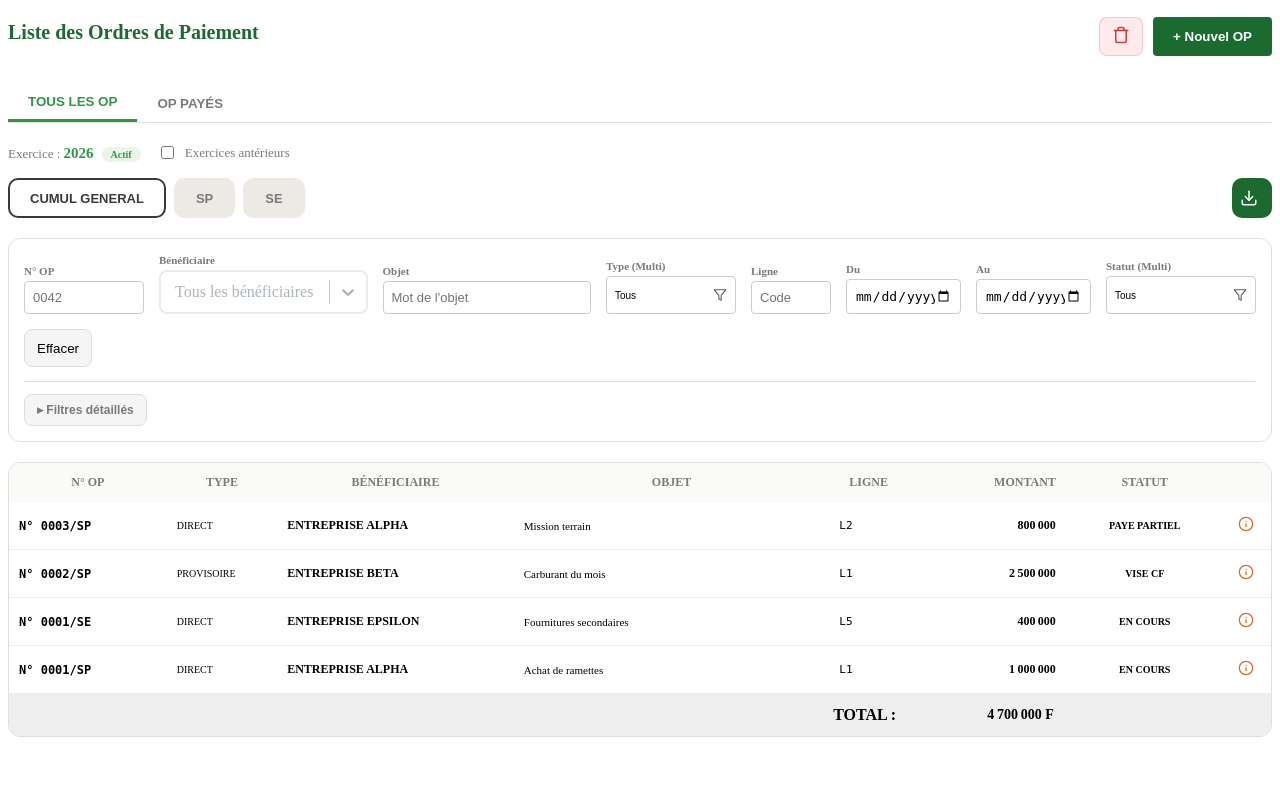
Test: Liste OP — la corbeille › un mauvais mot de passe refuse la restauration, et n'écrit rien
Click the button titled "Corbeille (OP supprimés)" at coordinates (1121, 36), box [1099,17,1143,56]
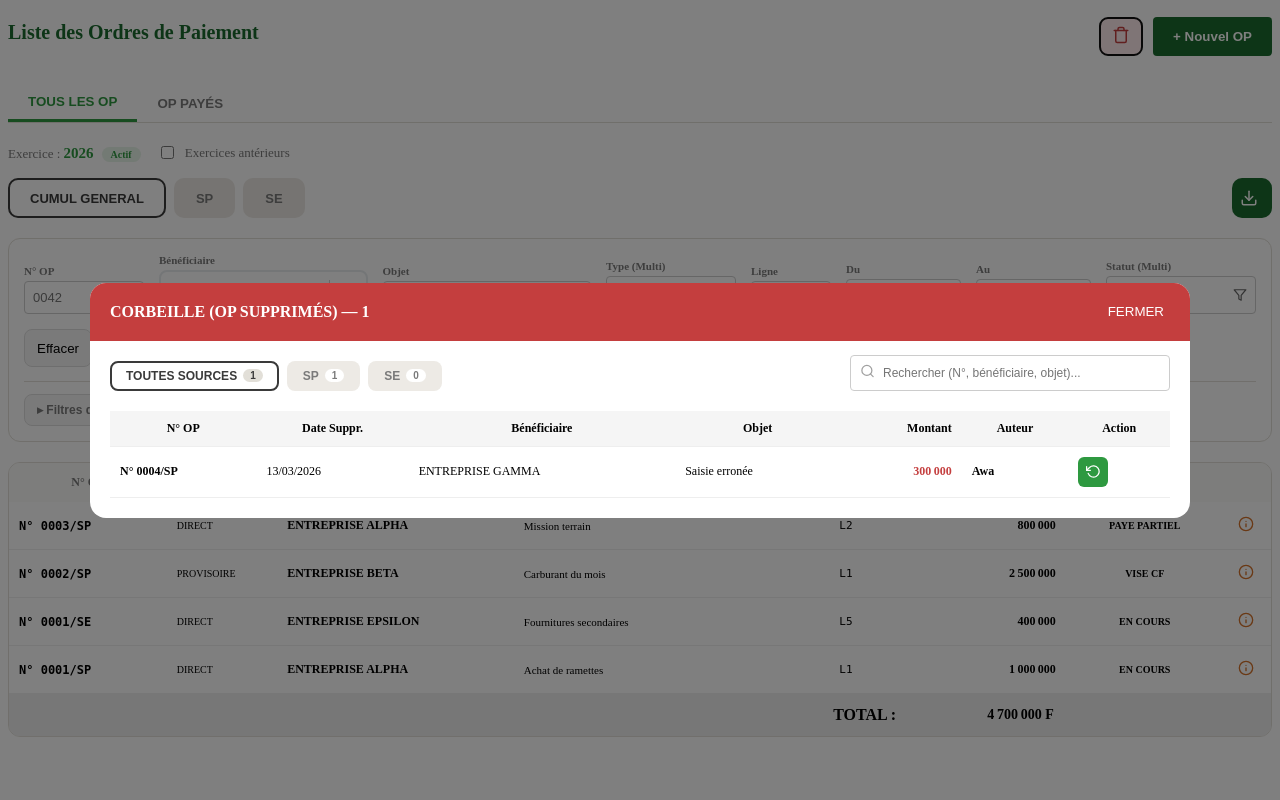
Click the button titled "Restaurer l'OP" at coordinates (1093, 472), box [1078,456,1108,486]
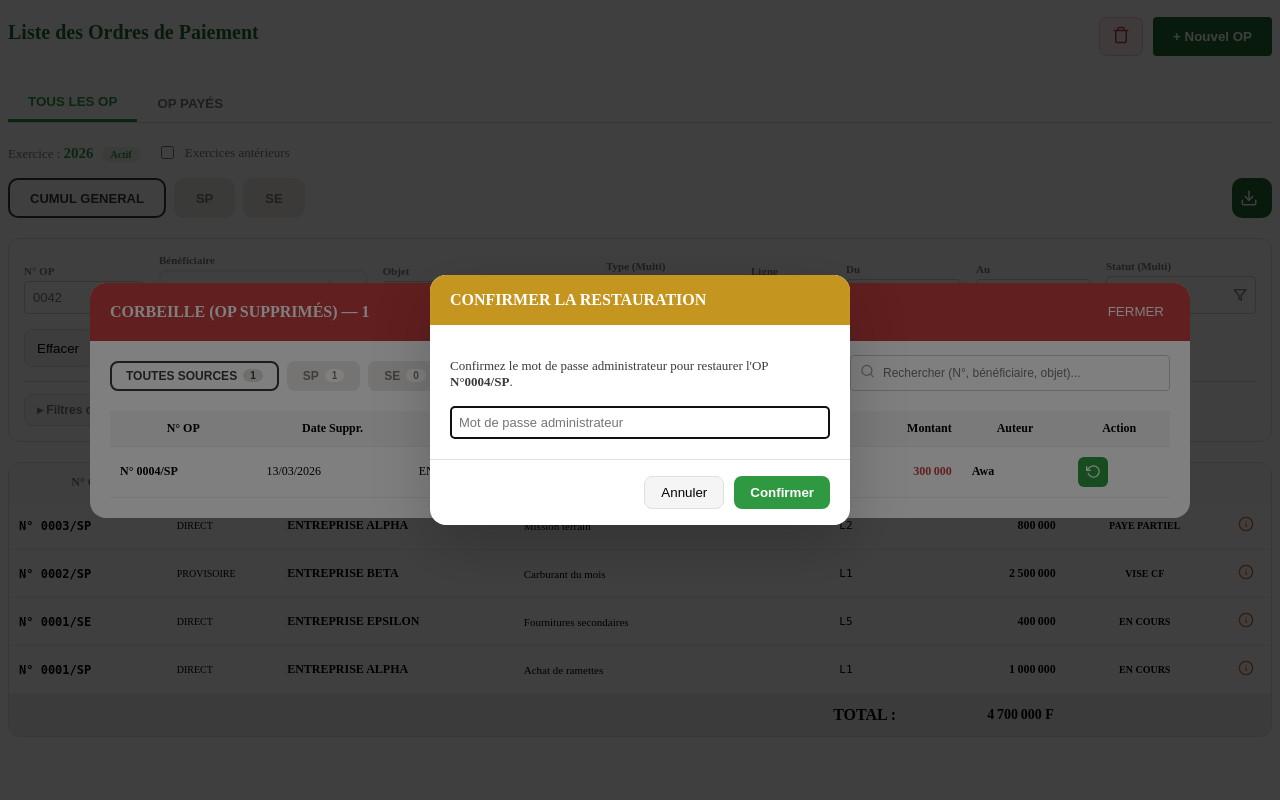
Type "faux" into the password field with placeholder "Mot de passe administrateur" at coordinates (640, 422), box [450,406,830,439]
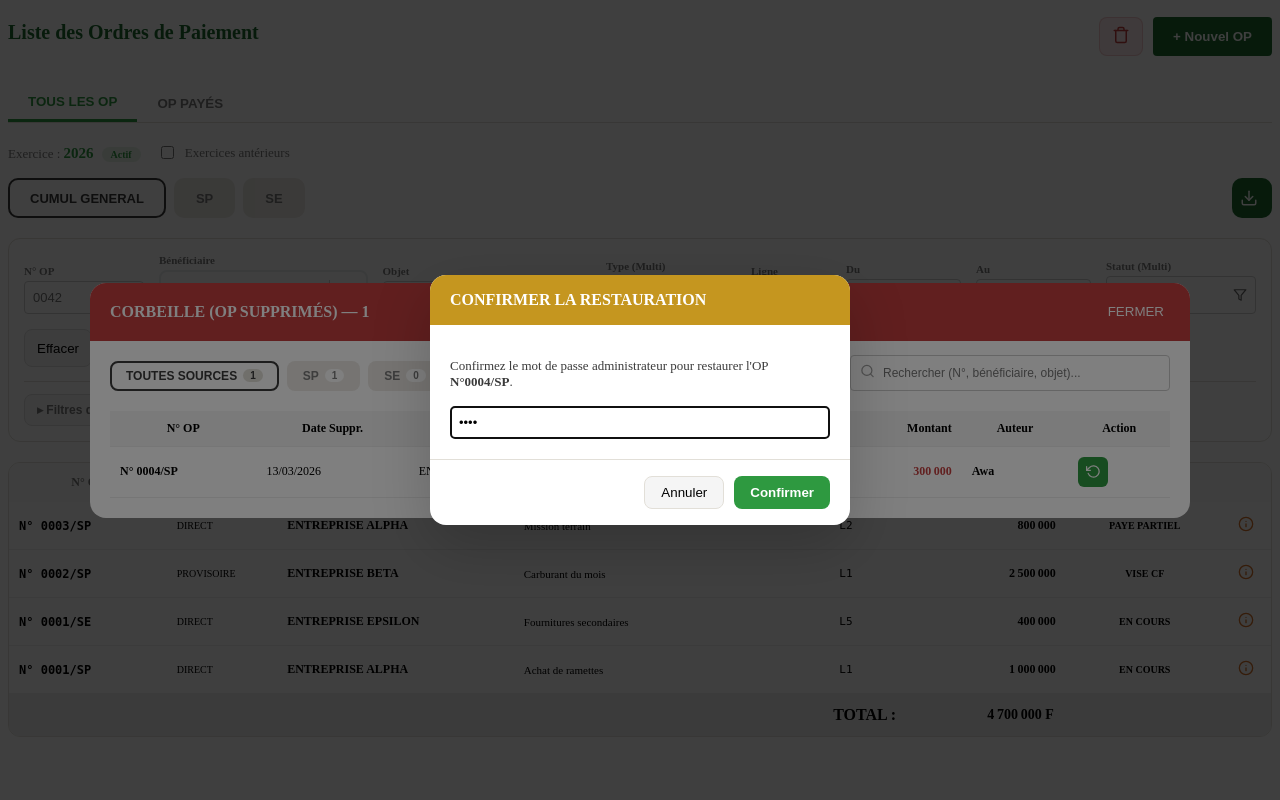
Click the button "Confirmer" at coordinates (782, 492), box [734,476,830,509]
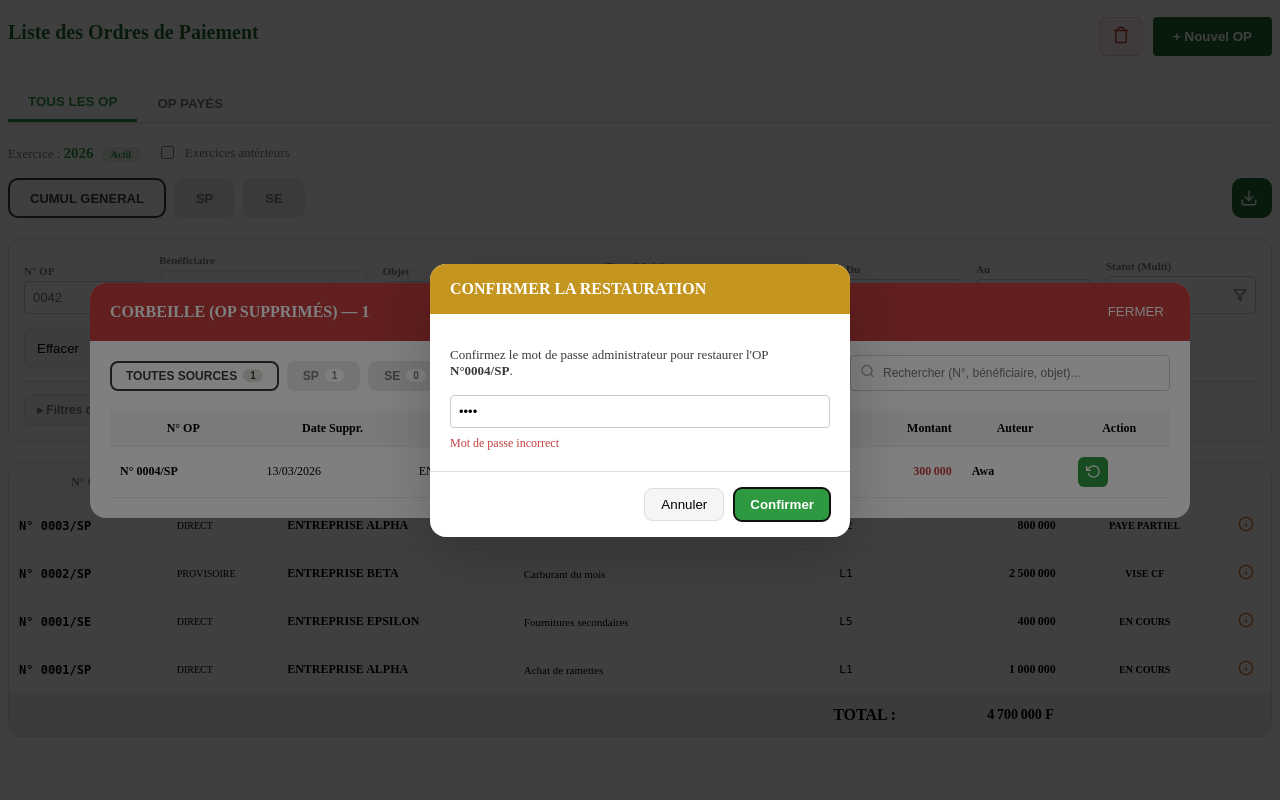
Now the text "Mot de passe incorrect" is shown, box [450,436,559,450]
